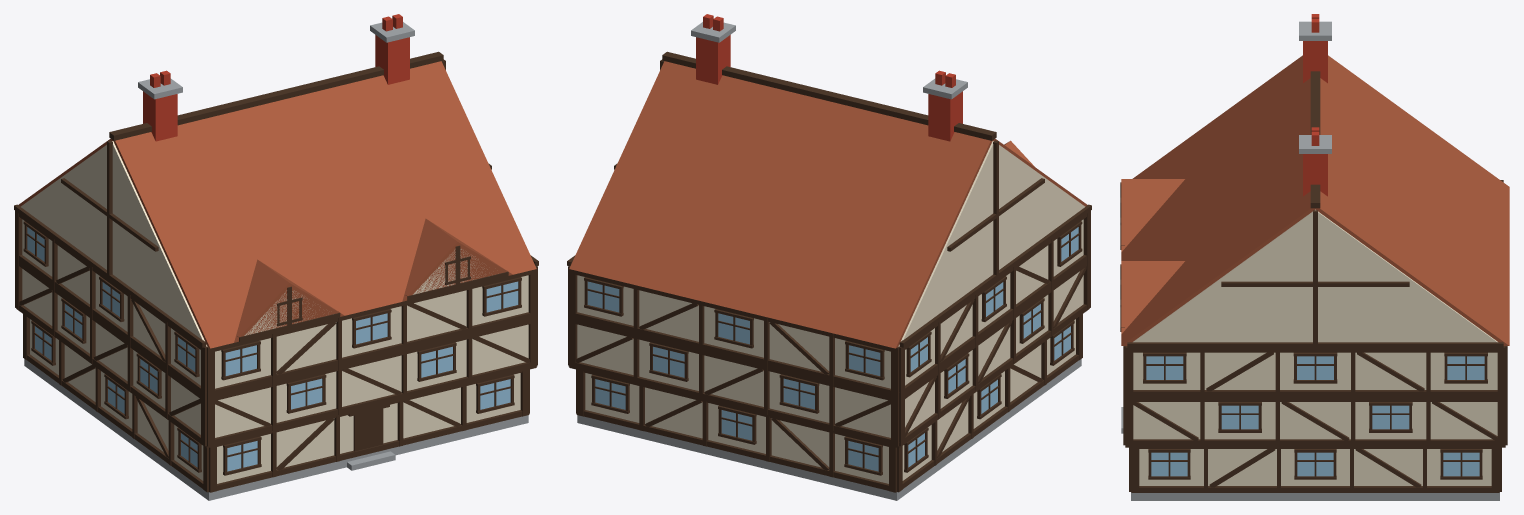
The model's file is house-2x2-3f-tudor-a.glb.
3 renders of one model, left to right at view 1: azimuth 30°, elevation 25°; view 2: azimuth 150°, elevation 25°; view 3: azimuth 270°, elevation 25°, orthographic.
Visible parts, largest first — view 1: house-2x2-3f-tudor-a; view 2: house-2x2-3f-tudor-a; view 3: house-2x2-3f-tudor-a.
Boxes of the visible parts, x1=… form: house-2x2-3f-tudor-a: x1=14, y1=14, x2=538, y2=500; house-2x2-3f-tudor-a: x1=567, y1=14, x2=1091, y2=500; house-2x2-3f-tudor-a: x1=1120, y1=14, x2=1509, y2=500.
Bounding box in the file's own units: 2 × 1.98 × 2.
1 material, 1 textured.
